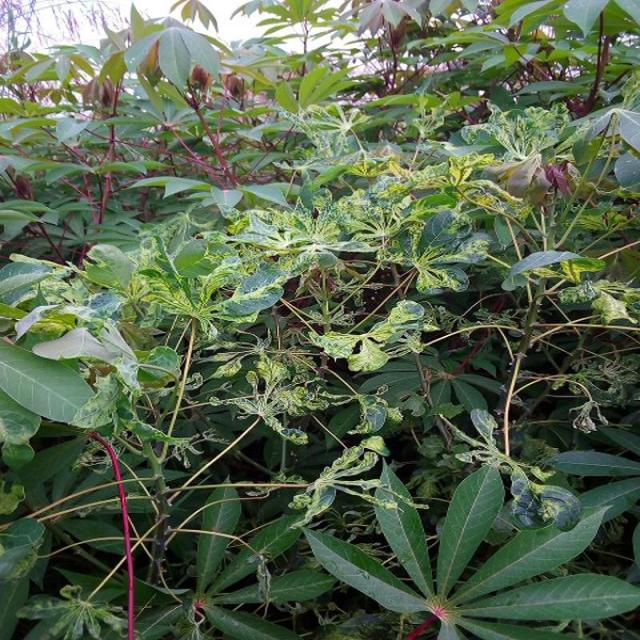Mosaico: (122, 207, 285, 334), (334, 225, 535, 323), (250, 183, 396, 293), (554, 234, 640, 346), (374, 136, 499, 203), (217, 357, 319, 426), (317, 306, 432, 361)
